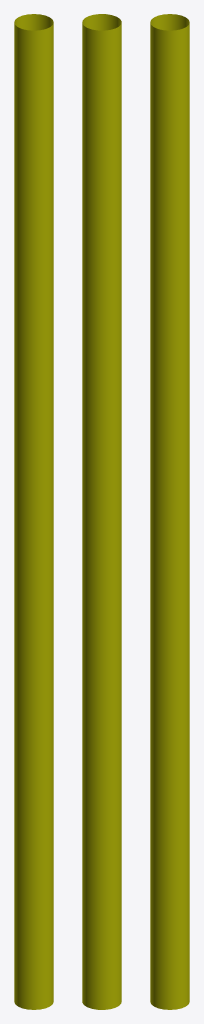
The model's file is Barrote 3.fbx.
3 views of the same model, side by side, from view 1: azimuth 90°, elevation 25°; view 2: azimuth 150°, elevation 25°; view 3: azimuth 270°, elevation 25° (orthographic).
Parts seen in each view (by area): view 1: Barrote; view 2: Barrote; view 3: Barrote.
Boxes of the visible parts, x1=… form: Barrote: x1=14, y1=14, x2=53, y2=1009; Barrote: x1=82, y1=14, x2=121, y2=1009; Barrote: x1=150, y1=14, x2=189, y2=1009.
Bounding box in the file's own units: 0.2583 × 7.05 × 0.2583.
